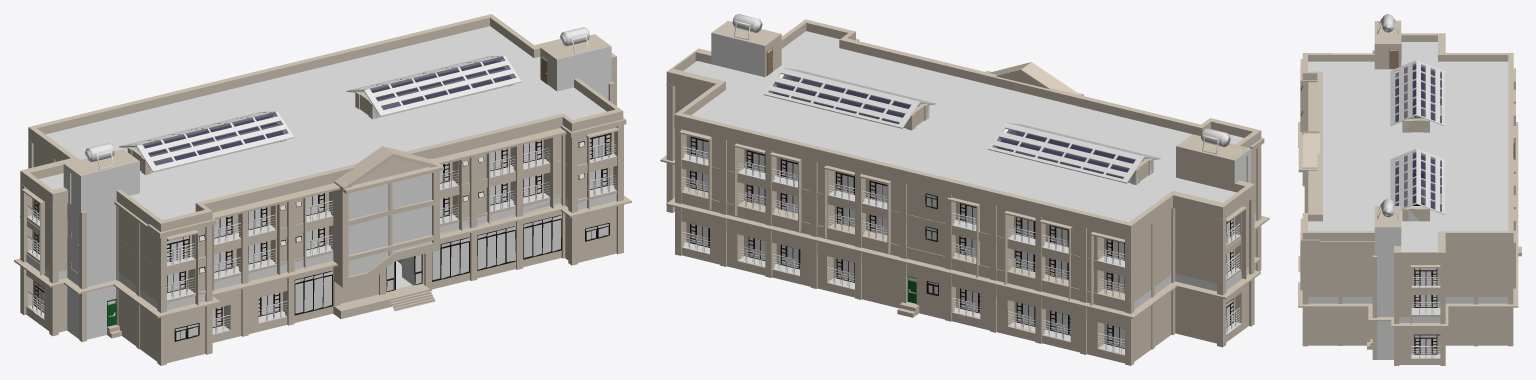
File: AR Building_L1.fbx
3 renders of one model, left to right at view 1: azimuth 30°, elevation 25°; view 2: azimuth 150°, elevation 25°; view 3: azimuth 270°, elevation 25°, orthographic. The views are drawn at different scales.
Visible parts, largest first — view 1: 1st Floor Low poly Doors; view 2: 1st Floor Low poly Doors; view 3: 1st Floor Low poly Doors.
Part boxes in pixels (x1=…): 1st Floor Low poly Doors: x1=14, y1=14, x2=631, y2=365; 1st Floor Low poly Doors: x1=660, y1=14, x2=1269, y2=365; 1st Floor Low poly Doors: x1=1298, y1=14, x2=1521, y2=365.
Bounding box in the file's own units: 5622 × 1710 × 2384.
